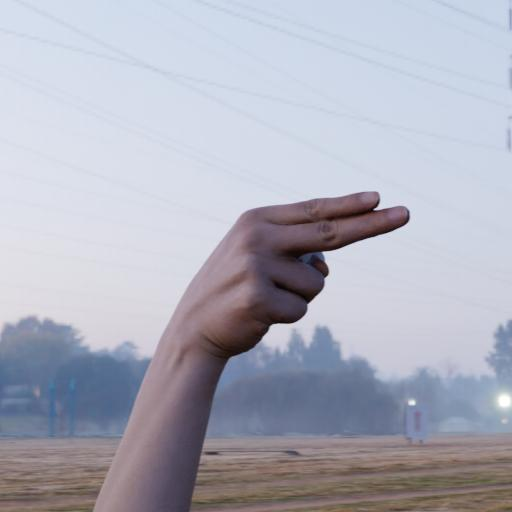H: (72, 141, 457, 512)
